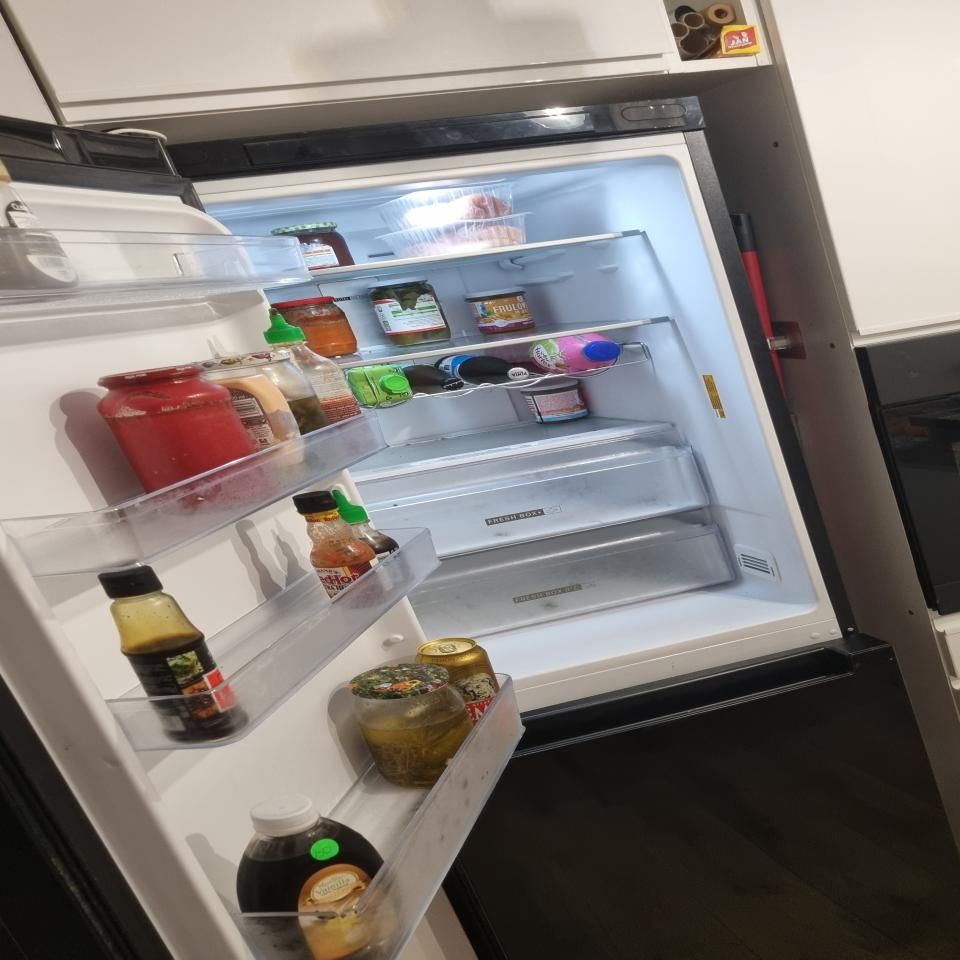Carne pollo: (362, 182, 522, 232), (372, 212, 534, 258)
